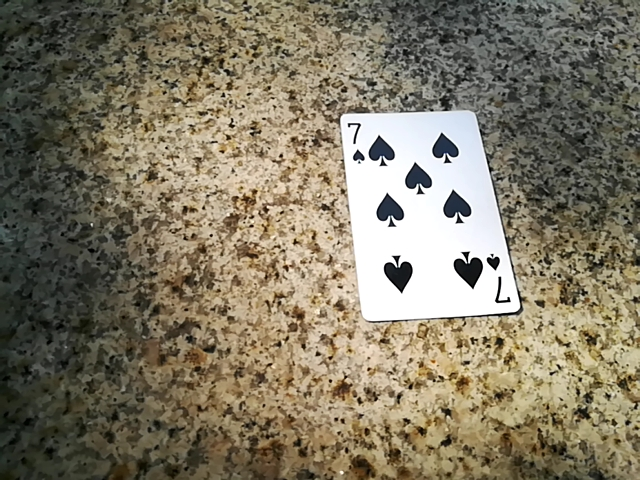ht 7: (339, 109, 510, 328)
